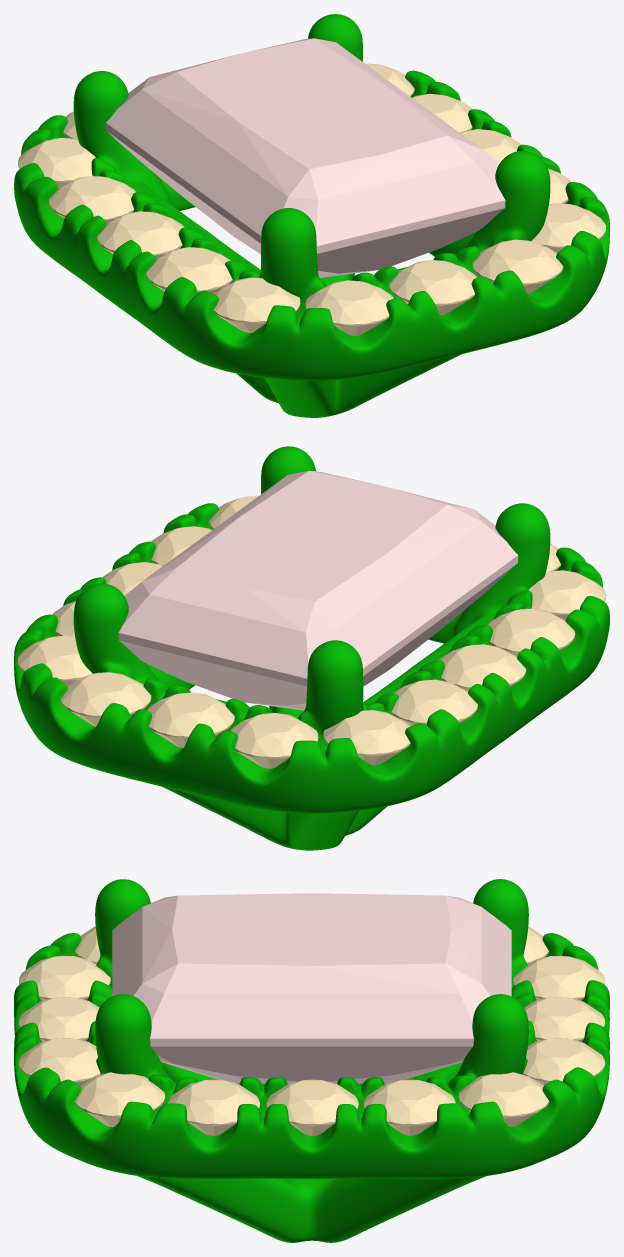
The picture shows the model from 3 angles, top to bottom: view 1: azimuth 30°, elevation 25°; view 2: azimuth 150°, elevation 25°; view 3: azimuth 270°, elevation 25°; orthographic projection.
Parts seen in each view (by area): view 1: Metal01, Diamond_Radiant, Diamond_Round.004, Diamond_Round.003, Diamond_Round.002, Diamond_Round.005, Diamond_Round.006, Diamond_Round.007, Diamond_Round.008, Diamond_Round.009, Diamond_Round.001, Diamond_Round.014 (+3 smaller); view 2: Metal01, Diamond_Radiant, Diamond_Round.010, Diamond_Round.011, Diamond_Round.012, Diamond_Round.009, Diamond_Round.008, Diamond_Round.006, Diamond_Round.007, Diamond_Round.005, Diamond_Round.013, Diamond_Round (+3 smaller); view 3: Metal01, Diamond_Radiant, Diamond_Round, Diamond_Round.014, Diamond_Round.015, Diamond_Round.013, Diamond_Round.001, Diamond_Round.004, Diamond_Round.010, Diamond_Round.002, Diamond_Round.012, Diamond_Round.003 (+3 smaller).
Part boxes in pixels (bbox=[...]): Metal01: bbox=[14, 14, 609, 417]; Diamond_Radiant: bbox=[106, 38, 505, 277]; Diamond_Round.004: bbox=[305, 280, 393, 335]; Diamond_Round.003: bbox=[389, 260, 477, 315]; Diamond_Round.002: bbox=[472, 239, 563, 293]; Diamond_Round.005: bbox=[213, 277, 300, 332]; Diamond_Round.006: bbox=[146, 247, 232, 293]; Diamond_Round.007: bbox=[97, 211, 184, 258]; Diamond_Round.008: bbox=[49, 176, 135, 223]; Diamond_Round.009: bbox=[18, 138, 95, 187]; Diamond_Round.001: bbox=[531, 203, 605, 253]; Diamond_Round.014: bbox=[412, 93, 472, 132]; Metal01: bbox=[14, 446, 609, 850]; Diamond_Radiant: bbox=[118, 470, 518, 710]; Diamond_Round.010: bbox=[230, 713, 318, 768]; Diamond_Round.011: bbox=[147, 692, 234, 747]; Diamond_Round.012: bbox=[60, 672, 151, 726]; Diamond_Round.009: bbox=[323, 710, 410, 765]; Diamond_Round.008: bbox=[391, 679, 477, 725]; Diamond_Round.006: bbox=[487, 608, 575, 656]; Diamond_Round.007: bbox=[439, 644, 526, 691]; Diamond_Round.005: bbox=[528, 570, 606, 620]; Diamond_Round.013: bbox=[18, 635, 92, 685]; Diamond_Round: bbox=[151, 526, 211, 565]; Metal01: bbox=[14, 879, 609, 1242]; Diamond_Radiant: bbox=[112, 893, 511, 1083]; Diamond_Round: bbox=[168, 1079, 259, 1135]; Diamond_Round.014: bbox=[364, 1079, 455, 1135]; Diamond_Round.015: bbox=[266, 1079, 358, 1135]; Diamond_Round.013: bbox=[458, 1072, 549, 1126]; Diamond_Round.001: bbox=[74, 1072, 165, 1126]; Diamond_Round.004: bbox=[19, 956, 110, 1000]; Diamond_Round.010: bbox=[513, 956, 604, 1000]; Diamond_Round.002: bbox=[18, 1038, 100, 1085]; Diamond_Round.012: bbox=[523, 1038, 605, 1085]; Diamond_Round.003: bbox=[19, 997, 99, 1041].
Bounding box in the file's own units: 8.62 × 5.78 × 10.38.
